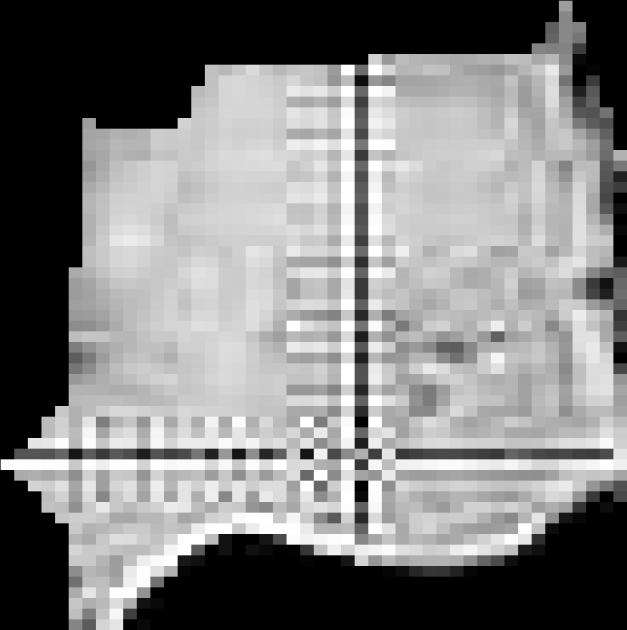tumor_good_chance: (1, 1, 627, 630)
